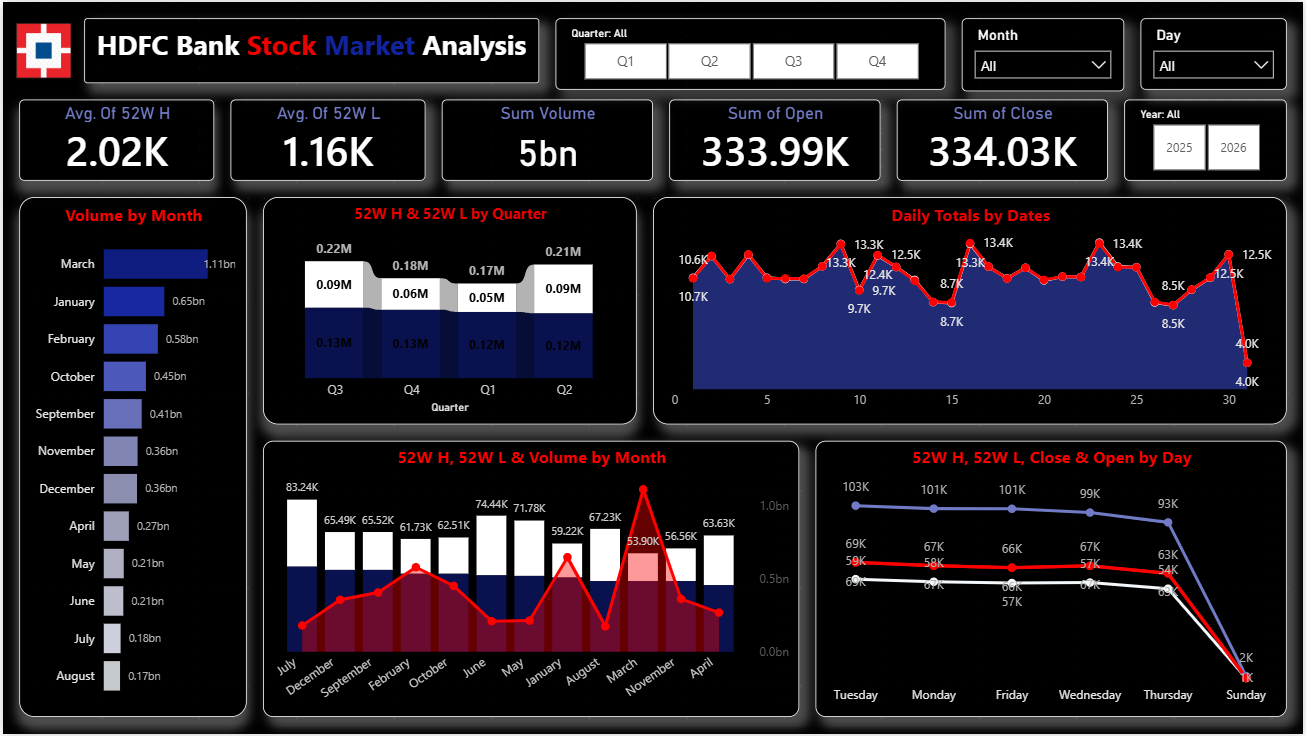

The dashboard page shown, as its layout file describes it:
{"tool":"powerbi","page":{"name":"Dashboard","canvas":[1280,720],"ordinal":0},"visuals":[{"type":"slicer","fields":{"Values":["Quote-Equity-HDFCBANK-EQ-30-03-2025-30-03-2026.Quarter"]},"box":[544,16,384,70],"z":0},{"type":"slicer","fields":{"Values":["Quote-Equity-HDFCBANK-EQ-30-03-2025-30-03-2026.Month"]},"box":[944,16,160,72],"z":1000},{"type":"slicer","fields":{"Values":["Quote-Equity-HDFCBANK-EQ-30-03-2025-30-03-2026.Year"]},"box":[1104,96,160,80],"z":2000},{"type":"slicer","fields":{"Values":["Quote-Equity-HDFCBANK-EQ-30-03-2025-30-03-2026.Day"]},"box":[1120,16,144,70],"z":3000},{"type":"card","title":"Avg. Of 52W H","fields":{"Values":["Avg(Quote-Equity-HDFCBANK-EQ-30-03-2025-30-03-2026.52W H)"]},"box":[16,96,192,80],"z":4000},{"type":"card","title":"Avg. Of 52W L","fields":{"Values":["Avg(Quote-Equity-HDFCBANK-EQ-30-03-2025-30-03-2026.52W L)"]},"box":[224,96,192,80],"z":5000},{"type":"card","title":"Sum of Close","fields":{"Values":["Sum(Quote-Equity-HDFCBANK-EQ-30-03-2025-30-03-2026.CLOSE)"]},"box":[880,96,208,80],"z":6000},{"type":"card","title":"Sum of Open","fields":{"Values":["Sum(Quote-Equity-HDFCBANK-EQ-30-03-2025-30-03-2026.OPEN)"]},"box":[656,96,208,80],"z":7000},{"type":"card","title":"Sum Volume","fields":{"Values":["Sum(Quote-Equity-HDFCBANK-EQ-30-03-2025-30-03-2026.VOLUME)"]},"box":[432,96,208,80],"z":8000},{"type":"columnChart","title":"52W H & 52W L by Quarter","fields":{"Category":["Quote-Equity-HDFCBANK-EQ-30-03-2025-30-03-2026.Quarter"],"Y":["Sum(Quote-Equity-HDFCBANK-EQ-30-03-2025-30-03-2026.52W H)","Sum(Quote-Equity-HDFCBANK-EQ-30-03-2025-30-03-2026.52W L)"]},"box":[256,192,368,224],"z":9000},{"type":"lineStackedColumnComboChart","title":"52W H, 52W L & Volume by Month","fields":{"Y":["Sum(Quote-Equity-HDFCBANK-EQ-30-03-2025-30-03-2026.52W H)","Sum(Quote-Equity-HDFCBANK-EQ-30-03-2025-30-03-2026.52W L)"],"Category":["Quote-Equity-HDFCBANK-EQ-30-03-2025-30-03-2026.Month"],"Y2":["Sum(Quote-Equity-HDFCBANK-EQ-30-03-2025-30-03-2026.VOLUME)"]},"box":[256,432,528,272],"z":10000},{"type":"lineChart","title":"Daily Totals by Dates","fields":{"Category":["Quote-Equity-HDFCBANK-EQ-30-03-2025-30-03-2026.DATE.Variation.Date Hierarchy.Day"],"Y":["Sum(Quote-Equity-HDFCBANK-EQ-30-03-2025-30-03-2026.OPEN)","Sum(Quote-Equity-HDFCBANK-EQ-30-03-2025-30-03-2026.CLOSE)"]},"box":[640,192,624,224],"z":11000},{"type":"lineChart","title":"52W H, 52W L, Close & Open by Day","fields":{"Category":["Quote-Equity-HDFCBANK-EQ-30-03-2025-30-03-2026.Day"],"Y":["Sum(Quote-Equity-HDFCBANK-EQ-30-03-2025-30-03-2026.52W H)","Sum(Quote-Equity-HDFCBANK-EQ-30-03-2025-30-03-2026.52W L)","Sum(Quote-Equity-HDFCBANK-EQ-30-03-2025-30-03-2026.OPEN)","Sum(Quote-Equity-HDFCBANK-EQ-30-03-2025-30-03-2026.CLOSE)"]},"box":[800,432,464,272],"z":12000},{"type":"clusteredBarChart","title":"Volume by Month","fields":{"Category":["Quote-Equity-HDFCBANK-EQ-30-03-2025-30-03-2026.Month"],"Y":["Sum(Quote-Equity-HDFCBANK-EQ-30-03-2025-30-03-2026.VOLUME)"]},"box":[16,192,224,512],"z":13000},{"type":"textbox","box":[80,16,448,64],"z":14000},{"type":"image","box":[0,16,80,64],"z":14001}]}

Visuals, with their boxes in screenshot pixels (x1, y1, x2, y2), scaled from the page's 1280x720 canvas onto the 1306x736 screenshot:
slicer - Quote-Equity-HDFCBANK-EQ-30-03-2025-30-03-2026.Quarter: x1=555, y1=16, x2=947, y2=88
slicer - Quote-Equity-HDFCBANK-EQ-30-03-2025-30-03-2026.Month: x1=963, y1=16, x2=1126, y2=90
slicer - Quote-Equity-HDFCBANK-EQ-30-03-2025-30-03-2026.Year: x1=1126, y1=98, x2=1290, y2=180
slicer - Quote-Equity-HDFCBANK-EQ-30-03-2025-30-03-2026.Day: x1=1143, y1=16, x2=1290, y2=88
"Avg. Of 52W H" card: x1=16, y1=98, x2=212, y2=180
"Avg. Of 52W L" card: x1=229, y1=98, x2=424, y2=180
"Sum of Close" card: x1=898, y1=98, x2=1110, y2=180
"Sum of Open" card: x1=669, y1=98, x2=882, y2=180
"Sum Volume" card: x1=441, y1=98, x2=653, y2=180
"52W H & 52W L by Quarter" columnChart: x1=261, y1=196, x2=637, y2=425
"52W H, 52W L & Volume by Month" lineStackedColumnComboChart: x1=261, y1=442, x2=800, y2=720
"Daily Totals by Dates" lineChart: x1=653, y1=196, x2=1290, y2=425
"52W H, 52W L, Close & Open by Day" lineChart: x1=816, y1=442, x2=1290, y2=720
"Volume by Month" clusteredBarChart: x1=16, y1=196, x2=245, y2=720
textbox: x1=82, y1=16, x2=539, y2=82
image: x1=0, y1=16, x2=82, y2=82
